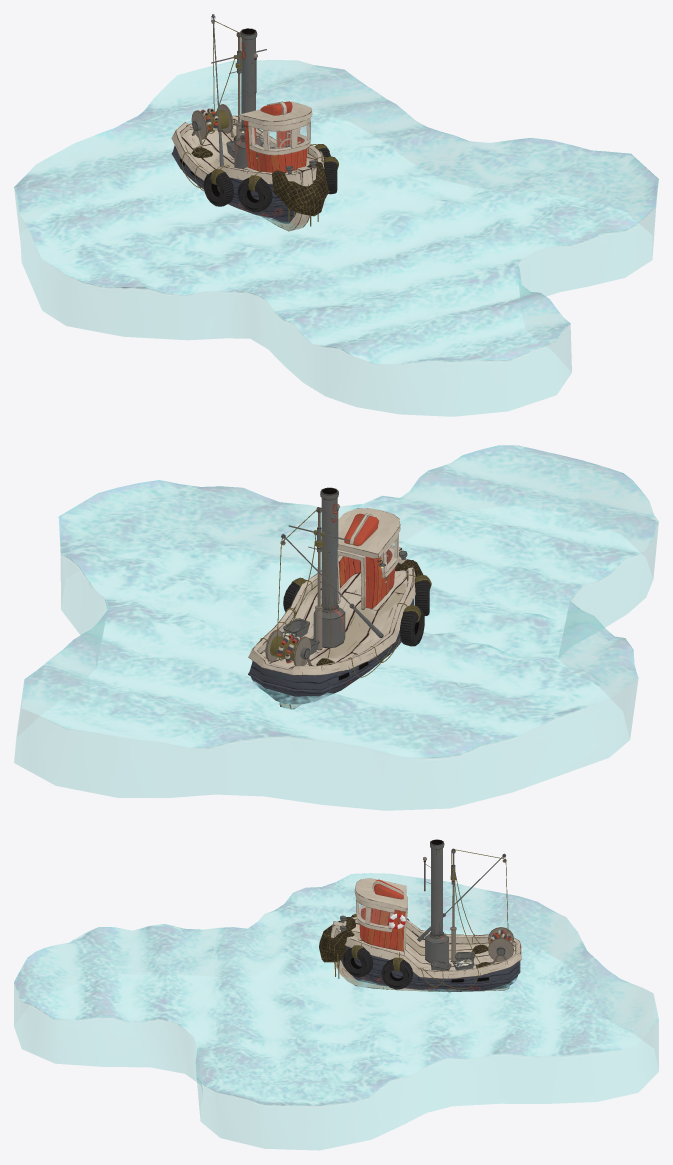
Rendered from boat.glb.
3 views of the same model, one above another, from view 1: azimuth 30°, elevation 25°; view 2: azimuth 150°, elevation 25°; view 3: azimuth 270°, elevation 25° (orthographic). The views are drawn at different scales.
Visible parts, largest first — view 1: defaultMaterial (×2); view 2: defaultMaterial (×2); view 3: defaultMaterial (×2).
Boxes of the visible parts, box(x1,y1,x2,y2) form: defaultMaterial (×2): box(14, 14, 658, 416); defaultMaterial (×2): box(14, 445, 658, 810); defaultMaterial (×2): box(14, 839, 658, 1150).
Size of the model in its own units: 5.42 by 1.93 by 6.36.
2 materials, 2 textured.
